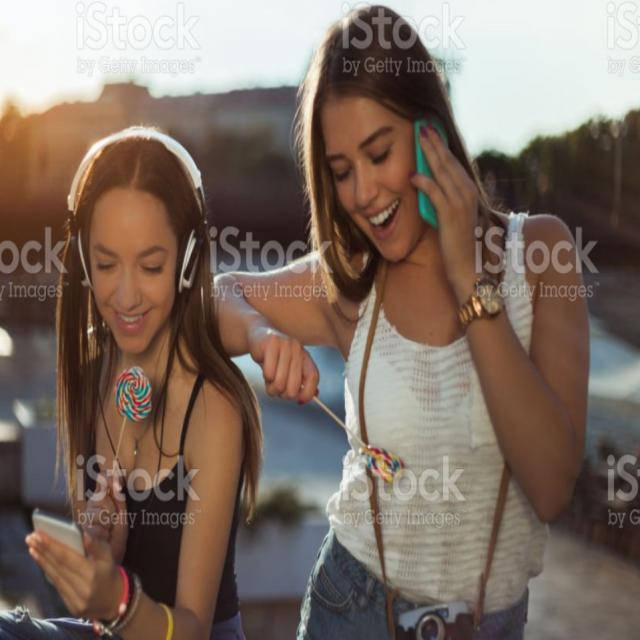Watch: (456, 273, 510, 329)
